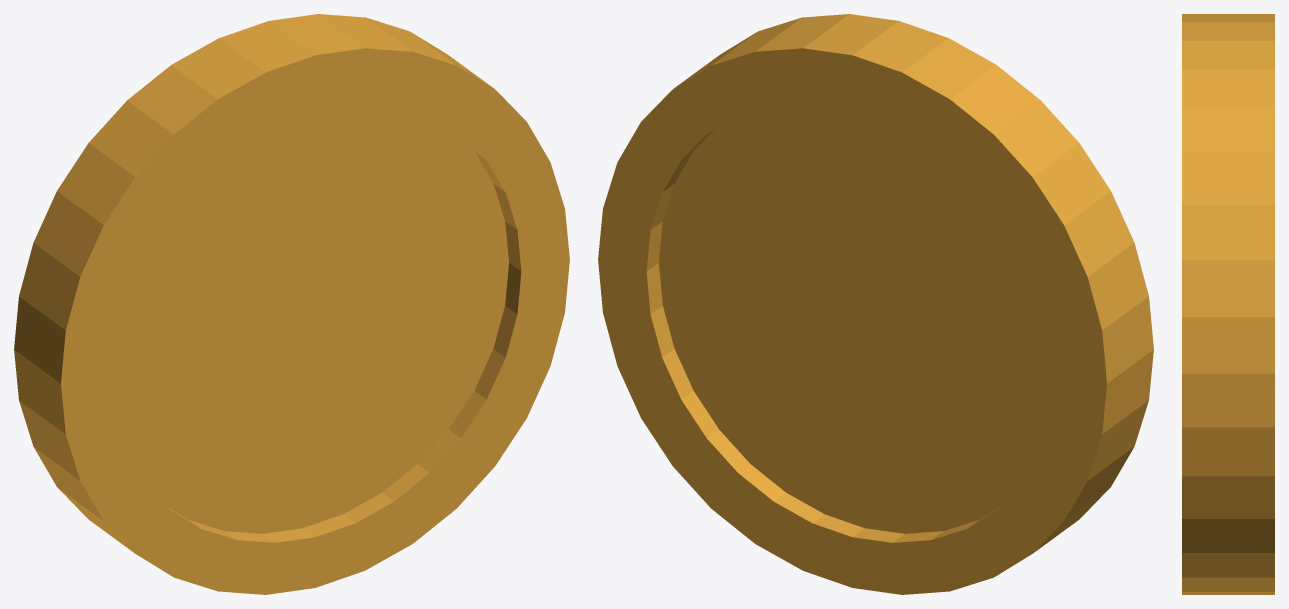
Rendered from coin.glb.
The picture shows the model from 3 angles, left to right: view 1: azimuth 30°, elevation 25°; view 2: azimuth 150°, elevation 25°; view 3: azimuth 270°, elevation 25°; orthographic projection.
Parts seen in each view (by area): view 1: Cylinder; view 2: Cylinder; view 3: Cylinder.
Part boxes in pixels (left/top/right/bottom): Cylinder: left=14, top=14, right=569, bottom=594; Cylinder: left=598, top=14, right=1153, bottom=594; Cylinder: left=1182, top=14, right=1274, bottom=594.
Bounding box in the file's own units: 2 × 2 × 0.319.
